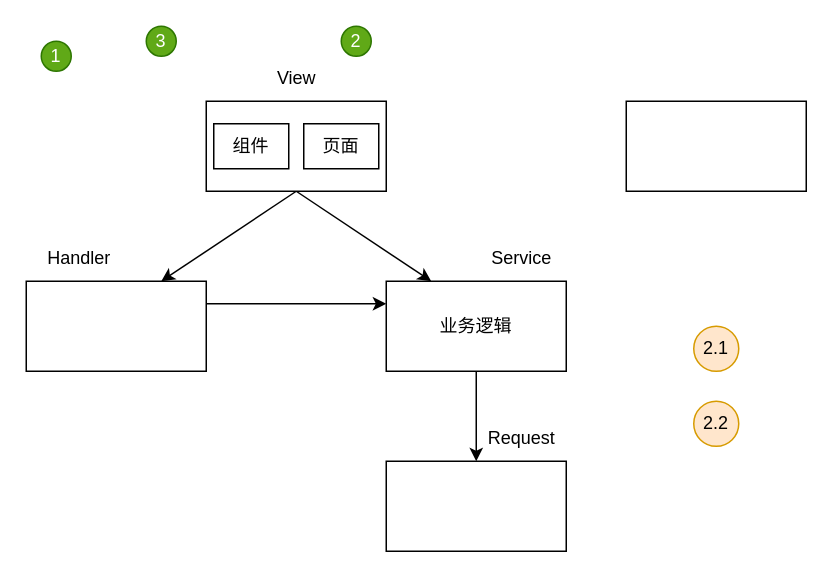
The diagram is 833 pixels wide and 578 high, and some of its shapes have lost their labels. Here are the shapes that lost their labels. From the top down, the centre of each, then its label:
the point at 715,145: tools
the point at 115,325: 事件
the point at 475,505: 请求数据
